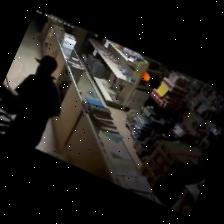person: (6, 56, 60, 148)
